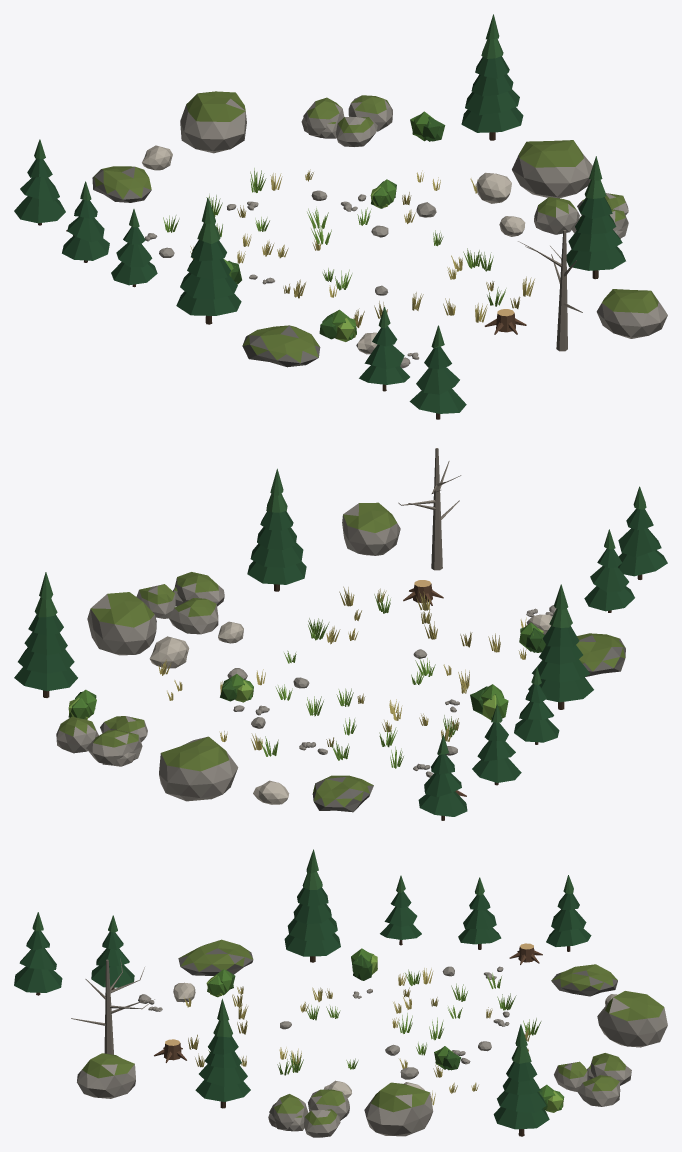
The model's file is GameProject3_SegmentVariante2.fbx.
3 views of the same model, one above another, from view 1: azimuth 30°, elevation 25°; view 2: azimuth 150°, elevation 25°; view 3: azimuth 270°, elevation 25° (orthographic). The views are drawn at different scales.
Visible parts, largest first — view 1: C_Fichte_Mittel_02, C_Fichte_Mittel_01, C_Felsbrocken_02, C_Fichte_Mittel_03, C_Felsbrocken_01, C_Felsgruppe_02, C_Felsbrocken_03, C_Felsbrocken_Flach_02, C_Fichte_Klein_05, C_Fichte_Klein_04, C_Felsgruppe_01, C_Fichte_Klein_03 (+8 smaller); view 2: C_Felsbrocken_01, C_Fichte_Mittel_01, C_Fichte_Mittel_03, C_Fichte_Mittel_02, C_Felsgruppe_01, C_Felsbrocken_02, C_Felsgruppe_02, C_Felsbrocken_03, C_Fichte_Klein_05, C_Fichte_Klein_04, C_Fichte_Klein_02, C_Fichte_Klein_03 (+10 smaller); view 3: C_Fichte_Mittel_02, C_Fichte_Mittel_01, C_Felsbrocken_01, C_Felsbrocken_02, C_Fichte_Mittel_03, C_Felsgruppe_01, C_Felsgruppe_02, C_Felsbrocken_03, C_Fichte_Klein_05, C_Felsbrocken_Flach_02, C_Fichte_Klein_04, C_Felsbrocken_Flach_01 (+8 smaller).
Part boxes in pixels (x1,y1,x2,y2): C_Fichte_Mittel_02: (176, 197, 241, 324); C_Fichte_Mittel_01: (461, 14, 523, 140); C_Felsbrocken_02: (512, 140, 592, 198); C_Fichte_Mittel_03: (566, 156, 625, 279); C_Felsbrocken_01: (180, 91, 246, 153); C_Felsgruppe_02: (301, 95, 392, 146); C_Felsbrocken_03: (596, 289, 667, 338); C_Felsbrocken_Flach_02: (242, 325, 320, 367); C_Fichte_Klein_05: (409, 325, 466, 419); C_Fichte_Klein_04: (14, 139, 65, 225); C_Felsgruppe_01: (534, 193, 628, 238); C_Fichte_Klein_03: (62, 181, 109, 262); C_Felsbrocken_01: (159, 736, 238, 801); C_Fichte_Mittel_01: (14, 572, 77, 697); C_Fichte_Mittel_03: (247, 468, 306, 591); C_Fichte_Mittel_02: (528, 584, 593, 709); C_Felsgruppe_01: (136, 572, 224, 634); C_Felsbrocken_02: (87, 592, 156, 655); C_Felsgruppe_02: (56, 716, 147, 766); C_Felsbrocken_03: (342, 502, 400, 555); C_Fichte_Klein_05: (618, 486, 667, 579); C_Fichte_Klein_04: (418, 735, 467, 820); C_Fichte_Klein_02: (584, 529, 634, 612); C_Fichte_Klein_03: (472, 704, 521, 785); C_Fichte_Mittel_02: (284, 849, 340, 962); C_Fichte_Mittel_01: (493, 1024, 549, 1136); C_Felsbrocken_01: (597, 991, 667, 1047); C_Felsbrocken_02: (364, 1082, 433, 1136); C_Fichte_Mittel_03: (195, 998, 250, 1108); C_Felsgruppe_01: (268, 1089, 349, 1137); C_Felsgruppe_02: (554, 1053, 631, 1106); C_Felsbrocken_03: (77, 1053, 135, 1098); C_Fichte_Klein_05: (14, 912, 62, 995); C_Felsbrocken_Flach_02: (178, 939, 253, 975); C_Fichte_Klein_04: (546, 875, 591, 951); C_Felsbrocken_Flach_01: (551, 964, 617, 996).
Size of the model in its own units: 1468 by 371 by 1953.
